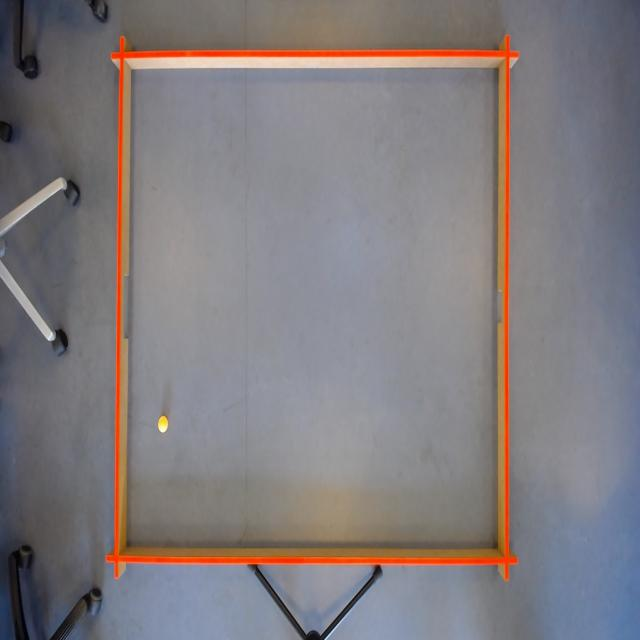orange_ball: (157, 415, 169, 436)
